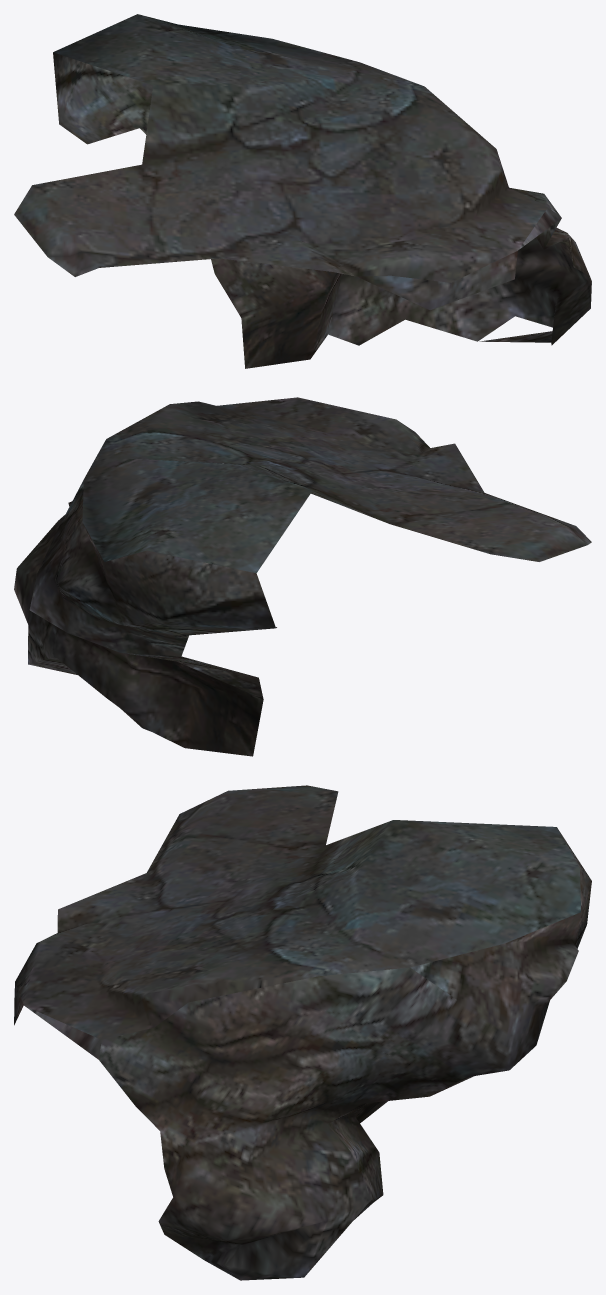
Rendered from S_Rock_Yellow036_H08.FBX.
3 renders of one model, top to bottom at view 1: azimuth 30°, elevation 25°; view 2: azimuth 150°, elevation 25°; view 3: azimuth 270°, elevation 25°, orthographic. The views are drawn at different scales.
Parts seen in each view (by area): view 1: S_Rock_Yellow036_H08; view 2: S_Rock_Yellow036_H08; view 3: S_Rock_Yellow036_H08.
Part boxes in pixels (x1,y1,x2,y2): S_Rock_Yellow036_H08: [14, 14, 591, 368]; S_Rock_Yellow036_H08: [14, 397, 591, 756]; S_Rock_Yellow036_H08: [14, 785, 591, 1280].
Bounding box in the file's own units: 1257 × 1103 × 659.
Materials: 1 (1 with a texture image).
